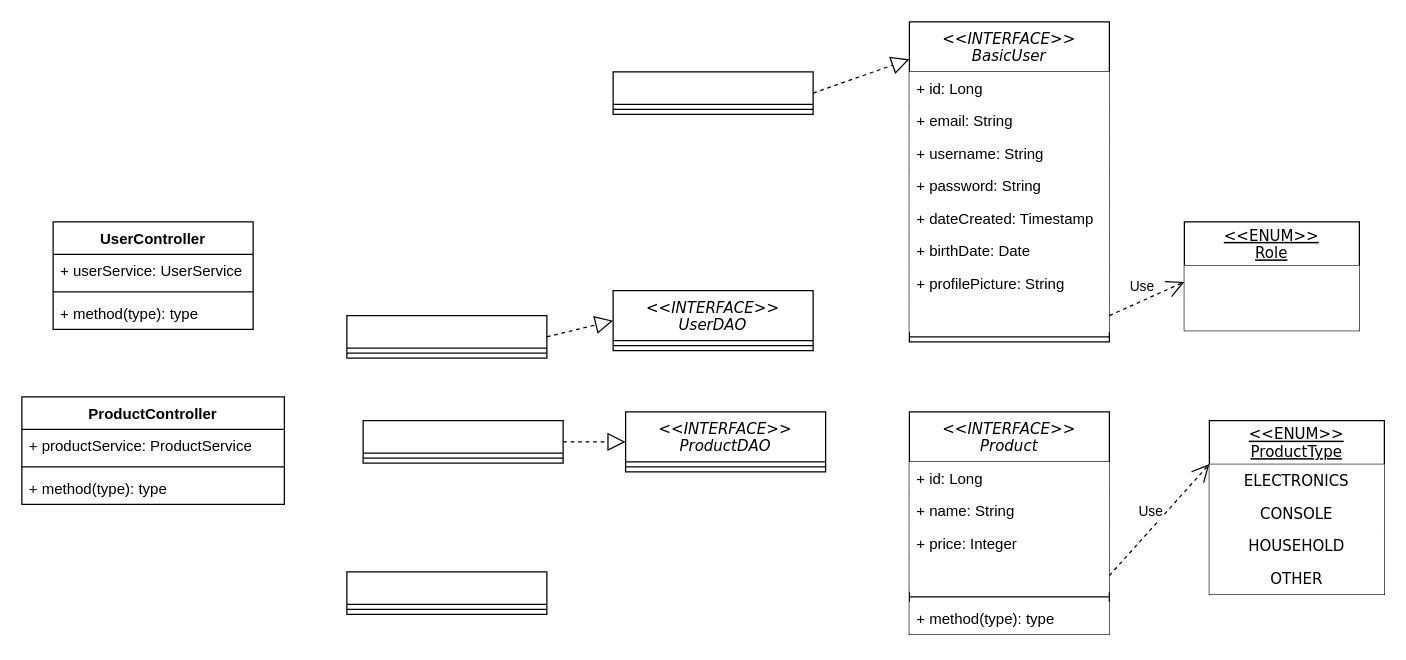
This 1406x660 diagram has some shape labels left out. The shapes that lost their labels are listed below. From the top down, each one's centre as x and y in pixels, then its label:
the point at 712,92: GoobUser
the point at 1271,281: USER
the point at 1009,315: + role: Role
the point at 1271,314: ADMIN
the point at 446,336: UserService
the point at 462,441: ProductService
the point at 446,592: EmailService
the point at 1009,575: + type: ProductType
